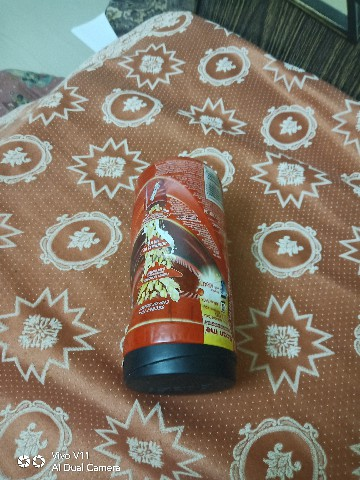boost big: (110, 137, 248, 396)
